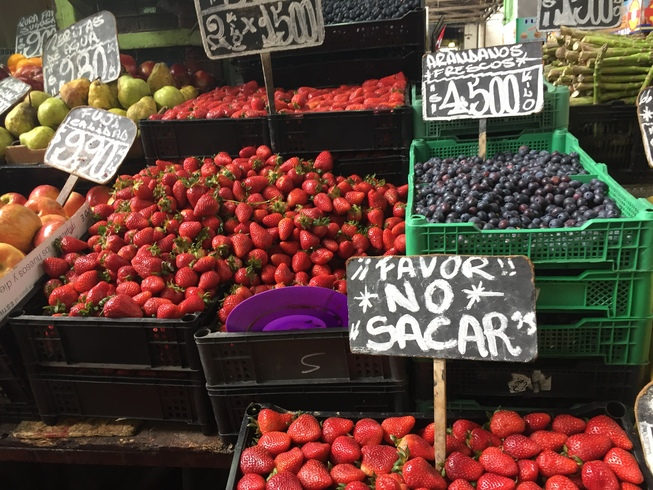precio: (344, 249, 548, 371), (421, 44, 552, 122), (45, 96, 142, 192), (192, 1, 340, 55), (48, 8, 125, 100), (10, 8, 73, 59), (534, 1, 623, 33), (1, 71, 35, 119)
